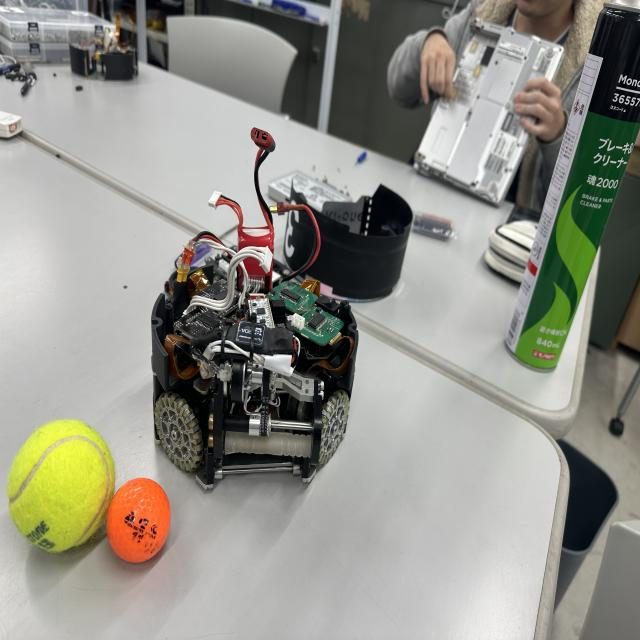ball: (106, 476, 173, 566)
